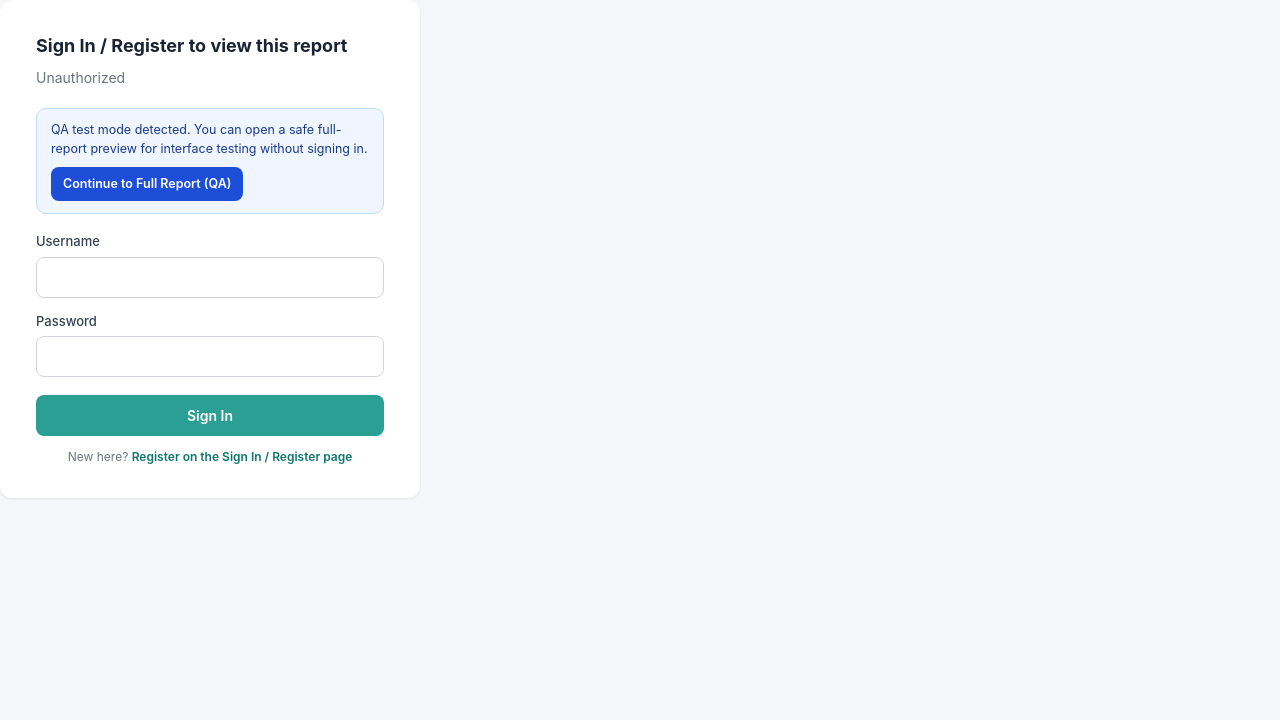
it: ReportView teaser hardening › allows QA unlock from auth gate on direct deep link with no preloaded report
Click the button "Continue to Full Report (QA)". click: (147, 184)
box: [51,166,244,201]
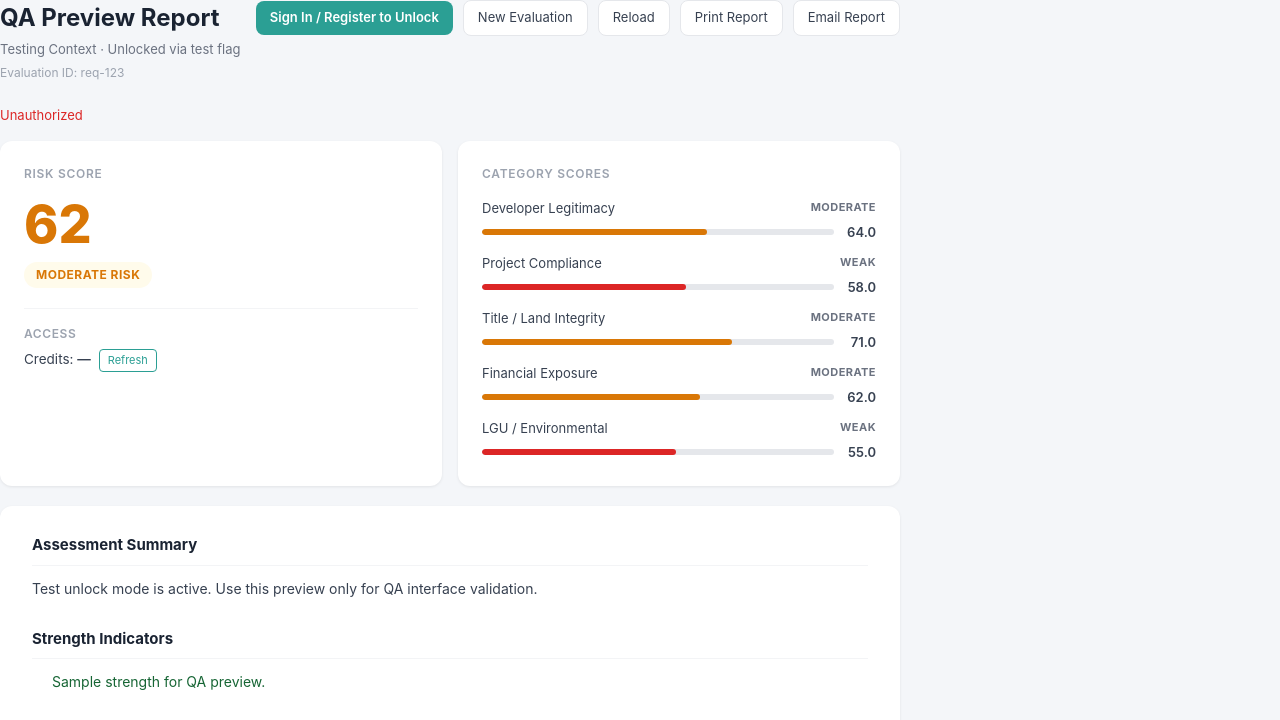
Now the heading "QA Preview Report" is shown, box [0,0,240,36]
Now the heading "Assessment Summary" is shown, box [32,534,868,566]
